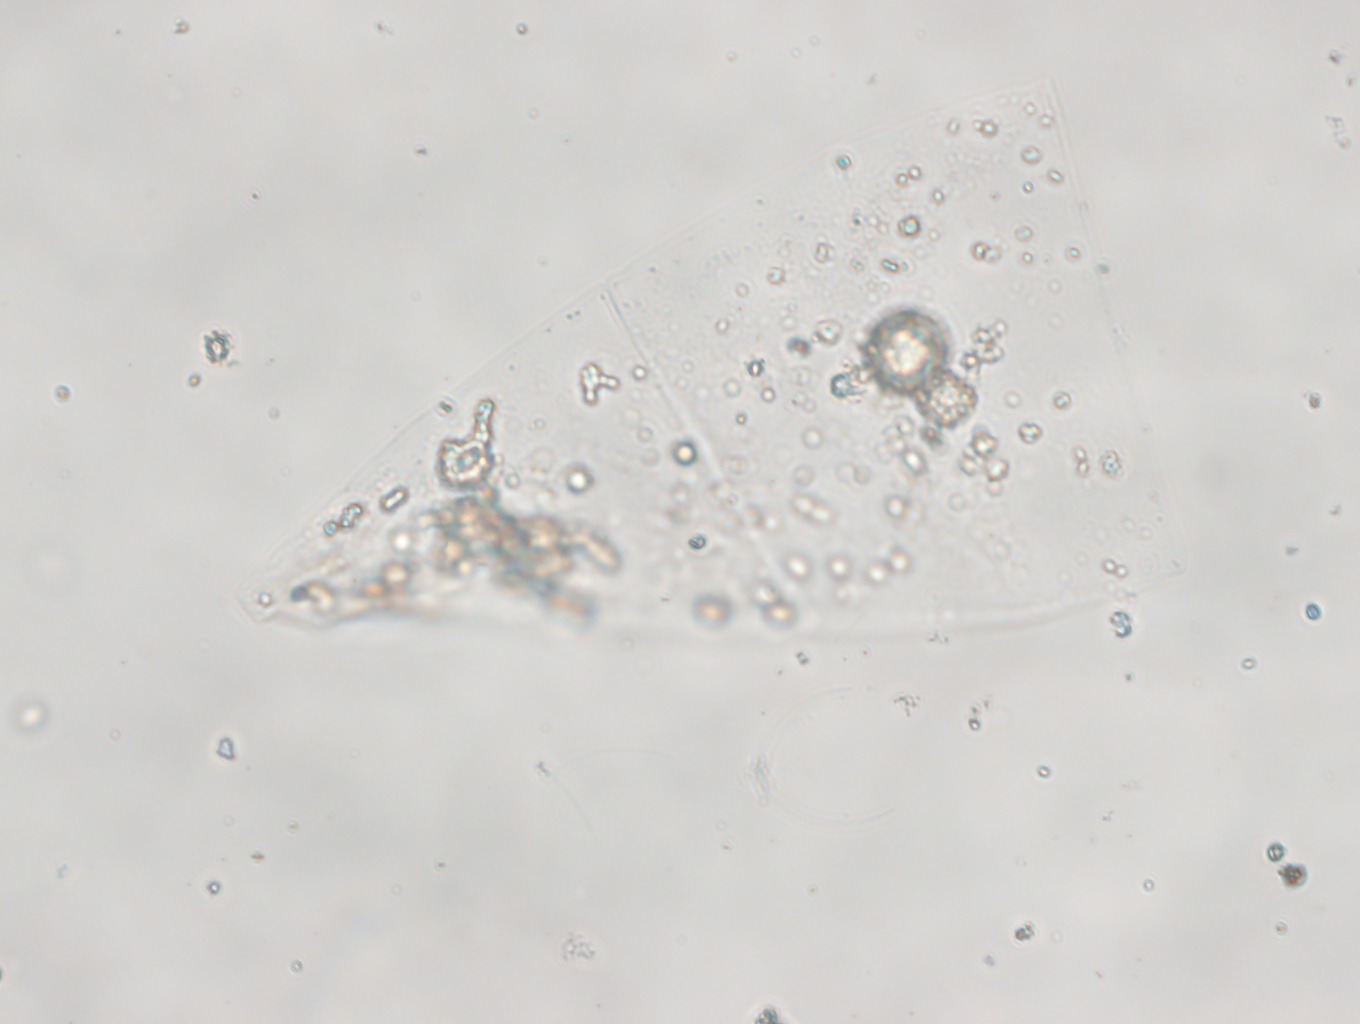helicotheca: (232, 72, 1183, 655)
